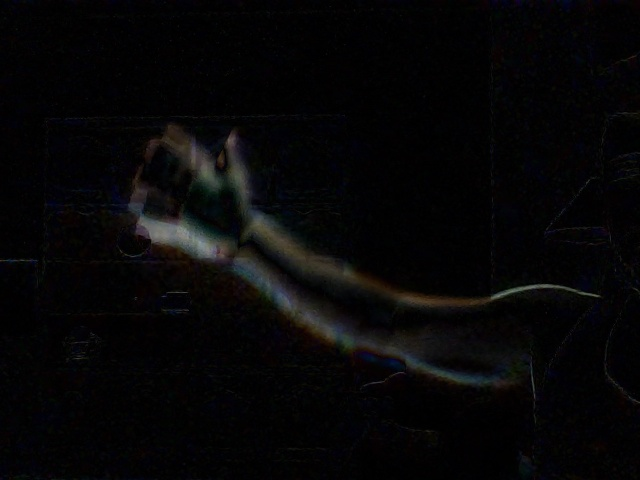hand_pa: (120, 111, 259, 261)
